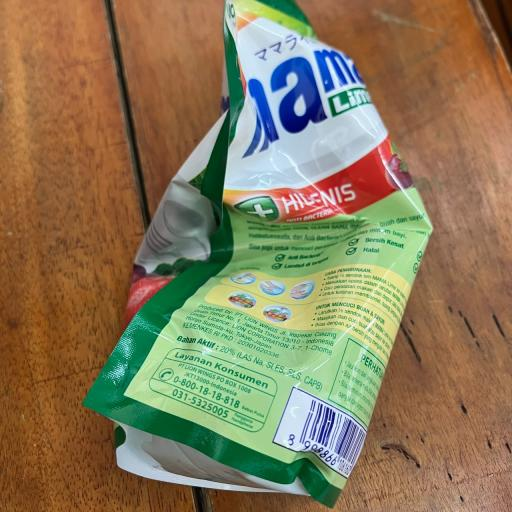Mama Lime Sabun Cuci Piring: (88, 0, 432, 499)
